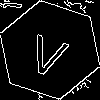V: (25, 25, 73, 80)
